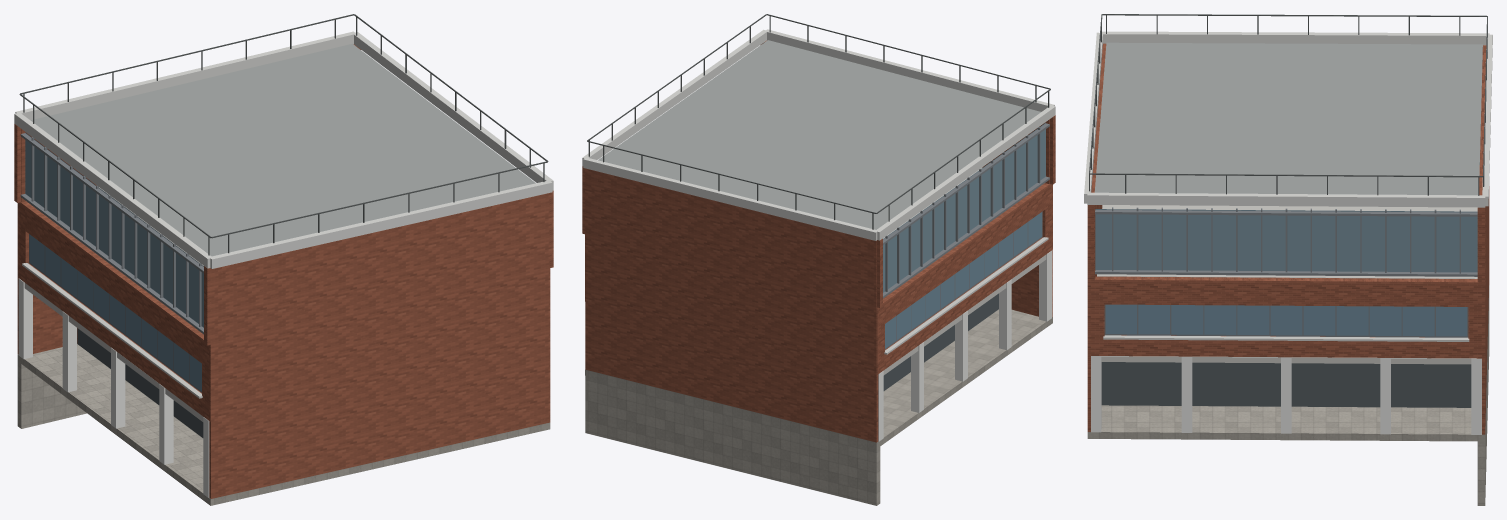
3 views of the same model, side by side, from view 1: azimuth 30°, elevation 25°; view 2: azimuth 150°, elevation 25°; view 3: azimuth 270°, elevation 25° (orthographic). The views are drawn at different scales.
Visible parts, largest first — view 1: main-link__brick, main-link__roof, main-link__cap, main-link__stone, main-link__curtainglass, main-link__mullion, main-link__glass, main-link__column, main-link__rail, main-link__pilotis-glass, main-link__sill, main-link__soffit (+1 smaller); view 2: main-link__brick, main-link__roof, main-link__stone, main-link__cap, main-link__curtainglass, main-link__mullion, main-link__glass, main-link__column, main-link__rail, main-link__pilotis-glass, main-link__sill, main-link__soffit (+1 smaller); view 3: main-link__roof, main-link__brick, main-link__curtainglass, main-link__pilotis-glass, main-link__stone, main-link__cap, main-link__glass, main-link__mullion, main-link__soffit, main-link__column, main-link__rail, main-link__sill (+1 smaller).
Part boxes in pixels (x1,y1,x2,y2): main-link__brick: (14, 44, 553, 498); main-link__roof: (31, 43, 535, 256); main-link__cap: (14, 31, 553, 268); main-link__stone: (17, 344, 550, 505); main-link__curtainglass: (25, 132, 203, 327); main-link__mullion: (20, 133, 203, 334); main-link__glass: (29, 234, 201, 391); main-link__column: (18, 278, 209, 497); main-link__rail: (19, 14, 548, 255); main-link__pilotis-glass: (77, 328, 203, 437); main-link__sill: (22, 263, 202, 398); main-link__soffit: (24, 187, 203, 421); main-link__brick: (582, 40, 1055, 442); main-link__roof: (598, 40, 1040, 229); main-link__stone: (585, 309, 1052, 505); main-link__cap: (582, 29, 1055, 240); main-link__curtainglass: (883, 123, 1045, 292); main-link__mullion: (883, 123, 1049, 298); main-link__glass: (885, 212, 1041, 348); main-link__column: (878, 250, 1051, 441); main-link__rail: (587, 14, 1050, 229); main-link__pilotis-glass: (883, 293, 998, 390); main-link__sill: (884, 237, 1048, 354); main-link__soffit: (883, 167, 1046, 375); main-link__roof: (1094, 42, 1482, 195); main-link__brick: (1087, 43, 1489, 434); main-link__curtainglass: (1095, 209, 1477, 272); main-link__pilotis-glass: (1101, 362, 1471, 407); main-link__stone: (1087, 285, 1489, 505); main-link__cap: (1084, 31, 1492, 207); main-link__glass: (1106, 304, 1466, 336); main-link__mullion: (1095, 207, 1477, 276); main-link__soffit: (1097, 205, 1477, 364); main-link__column: (1091, 356, 1481, 434); main-link__rail: (1089, 14, 1487, 195); main-link__sill: (1103, 335, 1469, 341).
Bounding box in the file's own units: 18.76 × 17.27 × 19.44.
Materials: 13 (2 with a texture image).
